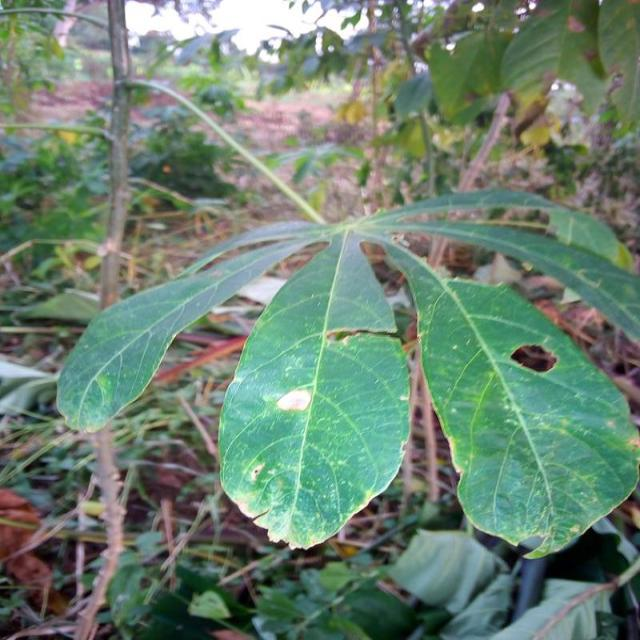cassava leaf: (368, 230, 638, 560), (217, 228, 411, 550)
